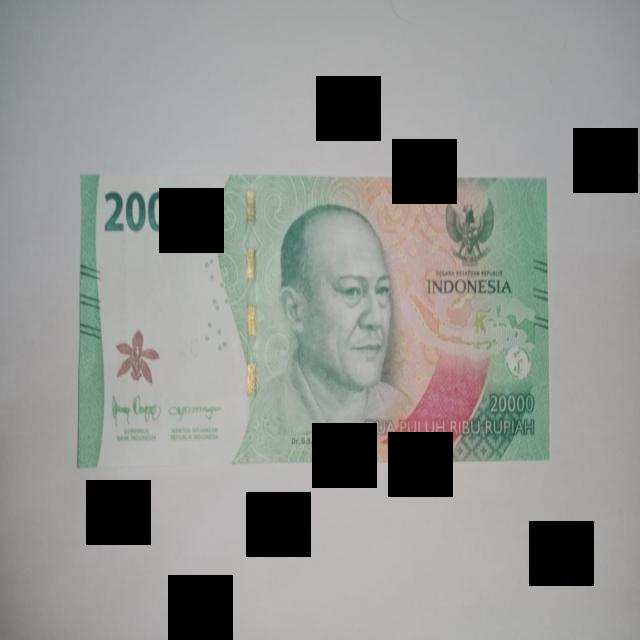dua puluh ribu rupiah: (78, 175, 549, 468)
